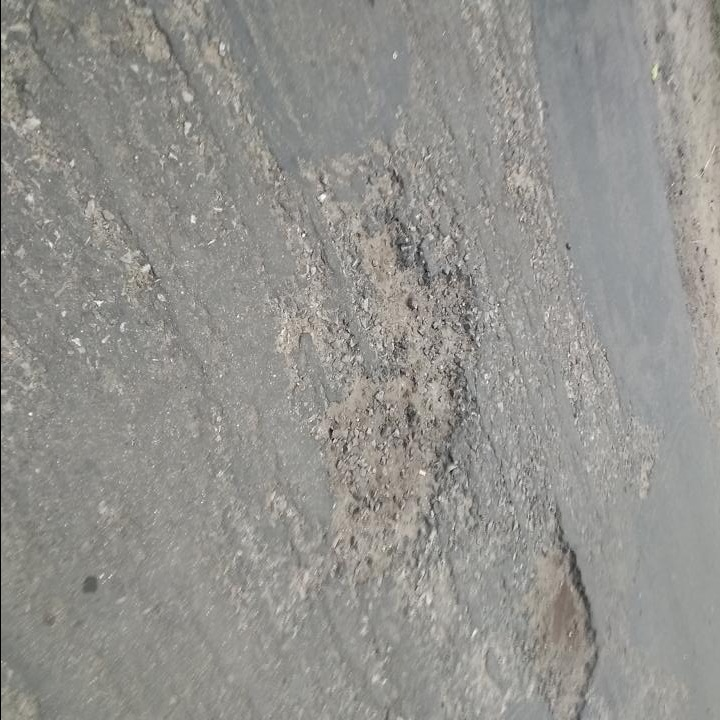pothole: (321, 164, 488, 561), (520, 504, 603, 719)
